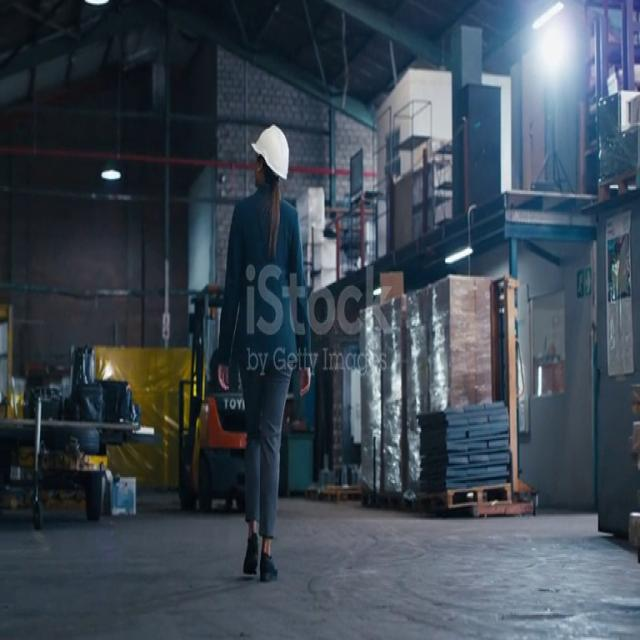capacete: (244, 104, 301, 196)
